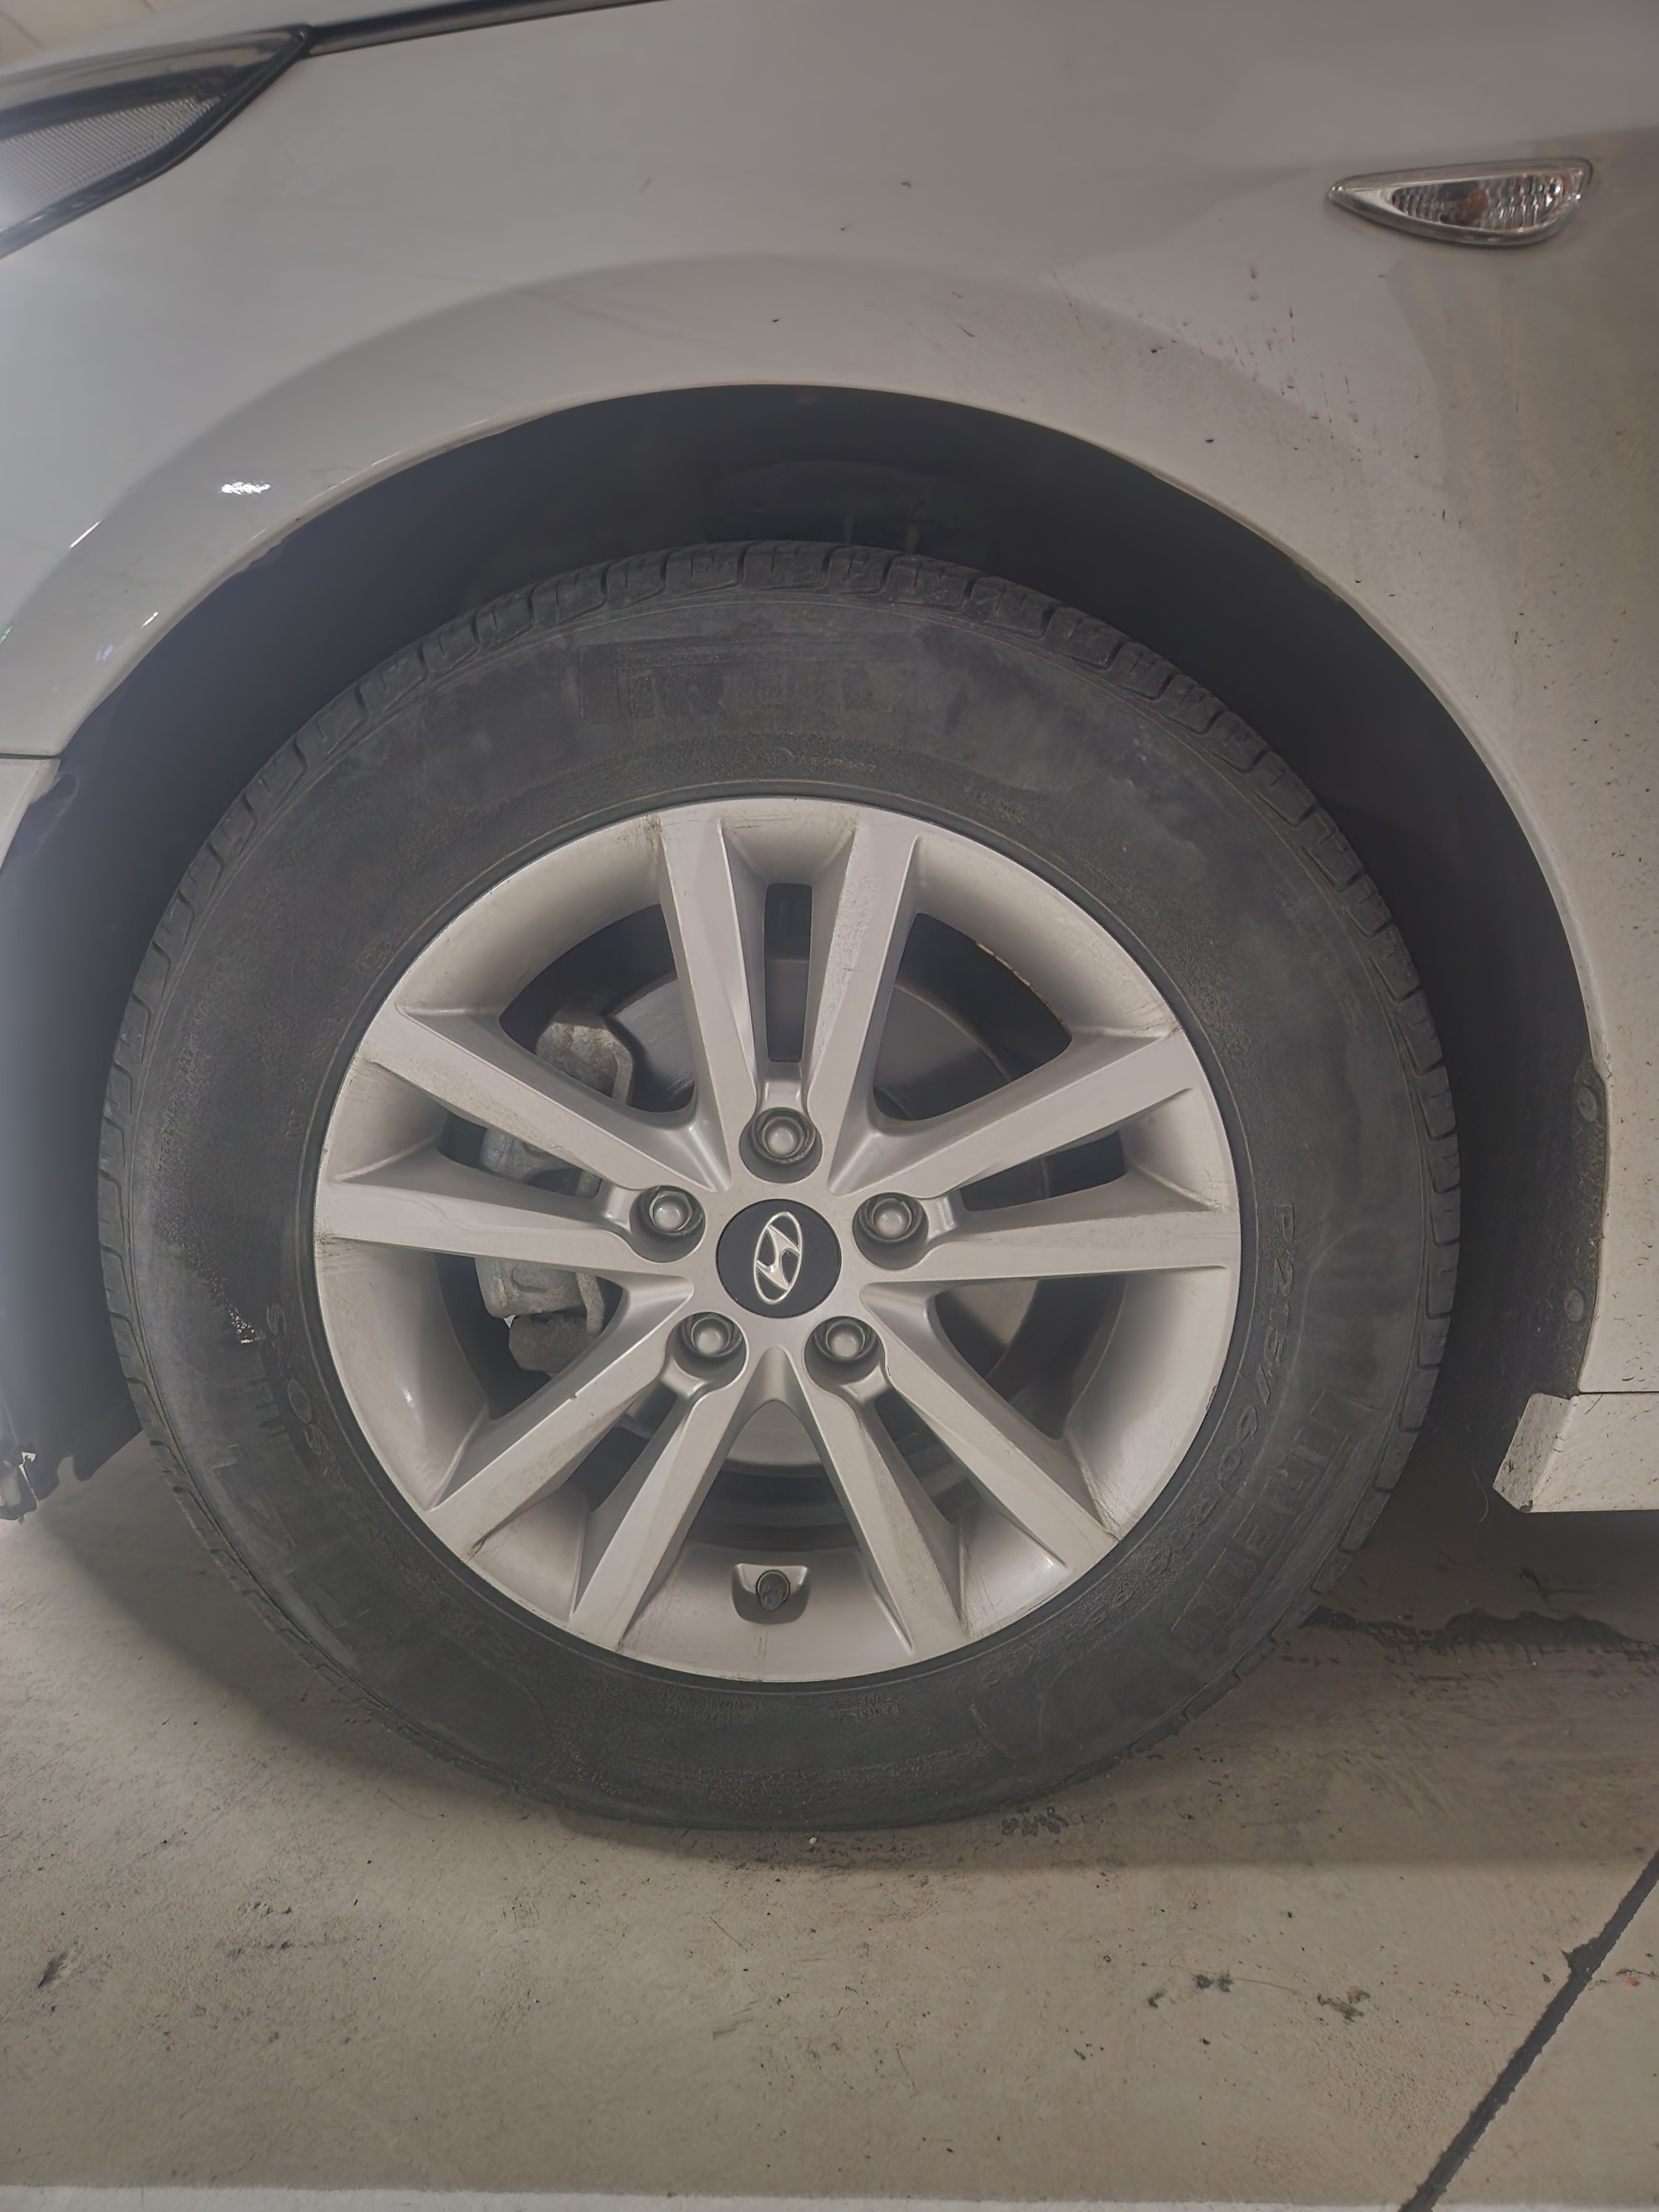DOT: (356, 932, 394, 977)
모델명: (1164, 1385, 1380, 1651)
사이즈: (1150, 1198, 1303, 1568)
